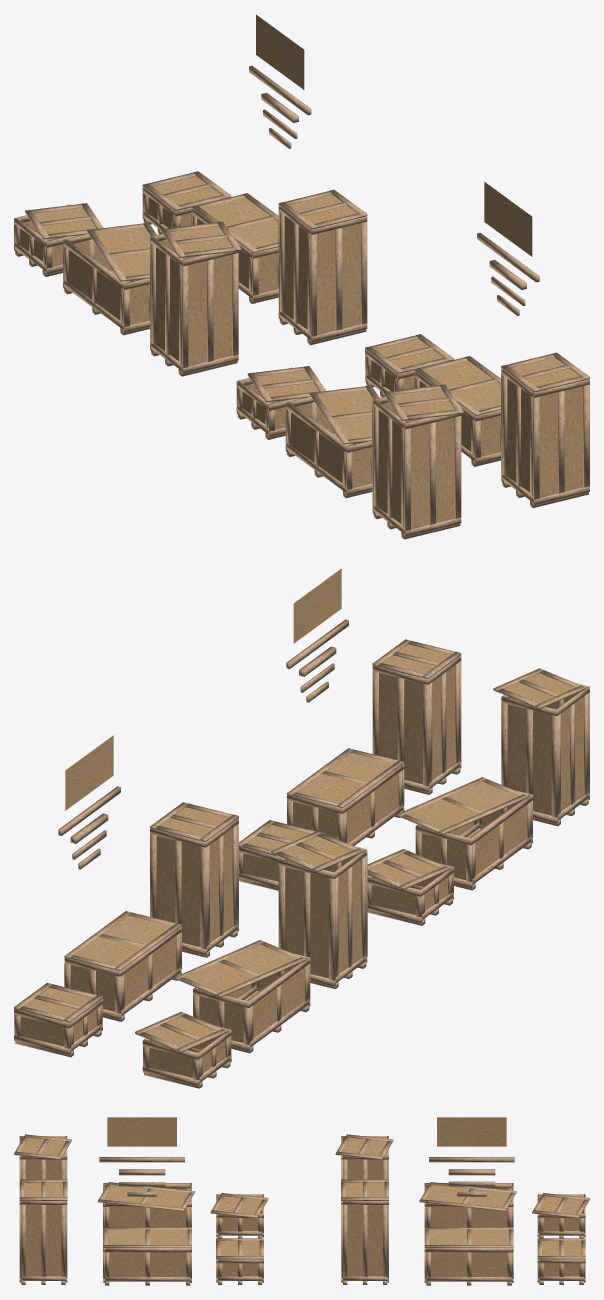
The model's file is Crates.fbx.
The picture shows the model from 3 angles, top to bottom: view 1: azimuth 30°, elevation 25°; view 2: azimuth 150°, elevation 25°; view 3: azimuth 270°, elevation 25°; orthographic projection. The views are drawn at different scales.
Parts seen in each view (by area): view 1: Crate_Tall_New, Crate_Tall_Old, Crate_Tall_Old_Bottom, Crate_Tall_New_Bottom, Crate_Large_New, Crate_Large_Old, Crate_Large_Old_Bottom, Crate_Large_New_Bottom, Crate_Small_New, Crate_Small_Old, Crate_Large_Old_Top, Crate_Large_New_Top (+8 smaller); view 2: Crate_Tall_Old, Crate_Tall_New, Crate_Tall_New_Bottom, Crate_Tall_Old_Bottom, Crate_Large_New, Crate_Large_Old, Crate_Large_New_Bottom, Crate_Large_Old_Bottom, Crate_Small_New, Crate_Large_New_Top, Crate_Large_Old_Top, Crate_Small_New_Bottom (+8 smaller); view 3: Crate_Tall_Old, Crate_Large_New, Crate_Tall_New, Crate_Large_Old, Crate_Small_New, Crate_Large_New_Bottom, Crate_Large_Old_Bottom, Crate_Small_Old, OSB_New, OSB_Old, Crate_Large_New_Top, Crate_Large_Old_Top (+13 smaller).
Part boxes in pixels (left/top/right/bottom): Crate_Tall_New: left=278, top=189, right=367, bottom=345; Crate_Tall_Old: left=501, top=352, right=589, bottom=507; Crate_Tall_Old_Bottom: left=372, top=386, right=461, bottom=539; Crate_Tall_New_Bottom: left=150, top=223, right=238, bottom=376; Crate_Large_New: left=191, top=193, right=278, bottom=303; Crate_Large_Old: left=414, top=356, right=500, bottom=466; Crate_Large_Old_Bottom: left=285, top=389, right=372, bottom=498; Crate_Large_New_Bottom: left=63, top=226, right=149, bottom=335; Crate_Small_New: left=142, top=171, right=231, bottom=234; Crate_Small_Old: left=365, top=334, right=453, bottom=397; Crate_Large_Old_Top: left=309, top=385, right=379, bottom=444; Crate_Large_New_Top: left=87, top=222, right=156, bottom=281; Crate_Tall_Old: left=372, top=639, right=461, bottom=794; Crate_Tall_New: left=150, top=802, right=238, bottom=957; Crate_Tall_New_Bottom: left=278, top=846, right=367, bottom=988; Crate_Tall_Old_Bottom: left=501, top=683, right=589, bottom=826; Crate_Large_New: left=64, top=911, right=181, bottom=1021; Crate_Large_Old: left=287, top=748, right=404, bottom=845; Crate_Large_New_Bottom: left=193, top=953, right=310, bottom=1053; Crate_Large_Old_Bottom: left=415, top=790, right=532, bottom=890; Crate_Small_New: left=14, top=983, right=102, bottom=1057; Crate_Large_New_Top: left=174, top=940, right=306, bottom=997; Crate_Large_Old_Top: left=397, top=777, right=528, bottom=834; Crate_Small_New_Bottom: left=142, top=1026, right=231, bottom=1088; Crate_Tall_Old: left=19, top=1179, right=67, bottom=1284; Crate_Large_New: left=424, top=1227, right=513, bottom=1285; Crate_Tall_New: left=341, top=1179, right=388, bottom=1284; Crate_Large_Old: left=103, top=1227, right=191, bottom=1285; Crate_Small_New: left=537, top=1238, right=585, bottom=1284; Crate_Large_New_Bottom: left=424, top=1183, right=513, bottom=1227; Crate_Large_Old_Bottom: left=103, top=1183, right=191, bottom=1232; Crate_Small_Old: left=216, top=1238, right=263, bottom=1284; OSB_New: left=437, top=1117, right=506, bottom=1146; OSB_Old: left=107, top=1117, right=176, bottom=1146; Crate_Large_New_Top: left=419, top=1182, right=516, bottom=1211; Crate_Large_Old_Top: left=97, top=1182, right=195, bottom=1211.
Size of the model in its own units: 261 by 307 by 944.
